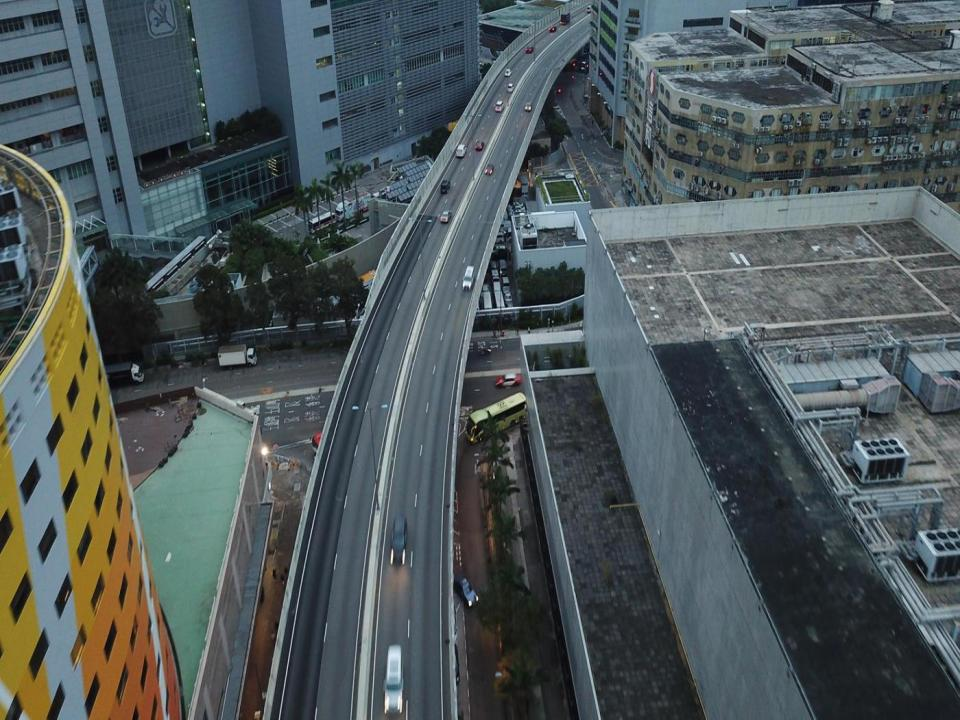bus: (308, 429, 362, 507), (464, 392, 528, 447), (308, 210, 336, 234)
car: (454, 573, 480, 608), (492, 373, 522, 388), (438, 209, 452, 225), (439, 179, 450, 194), (474, 138, 485, 153), (482, 162, 494, 174), (494, 99, 504, 113), (506, 82, 516, 92), (525, 100, 532, 114), (504, 66, 512, 78), (548, 24, 557, 33), (526, 45, 533, 54)
truck: (336, 191, 373, 222), (218, 343, 258, 369), (105, 362, 146, 387), (560, 14, 571, 23)
van: (383, 642, 406, 714), (387, 516, 408, 567), (460, 265, 475, 292), (456, 143, 466, 158)
